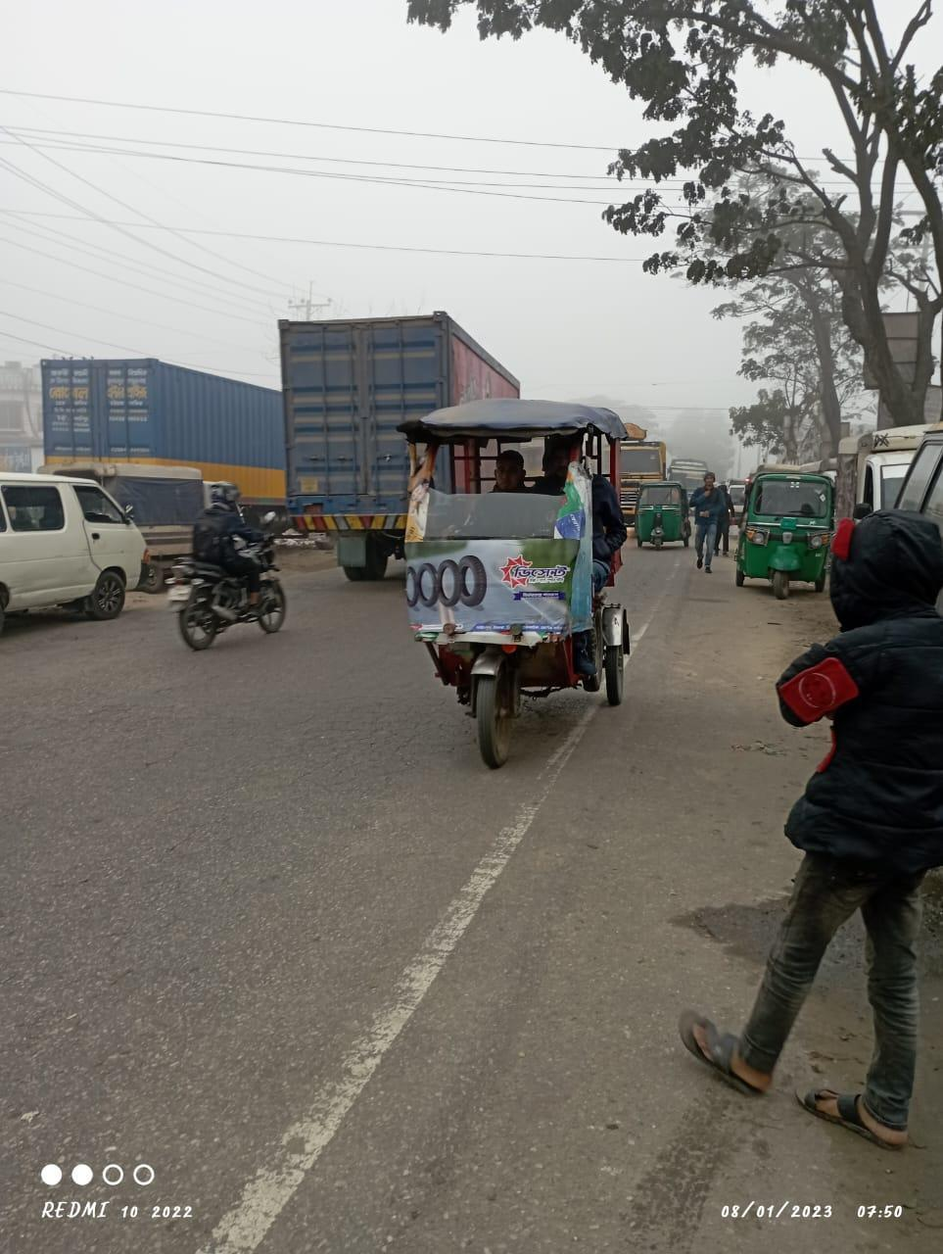Bike: (170, 478, 299, 646)
Car: (396, 396, 640, 757), (5, 461, 149, 618), (94, 446, 251, 576)
Truck: (272, 306, 450, 572), (29, 346, 299, 508)
